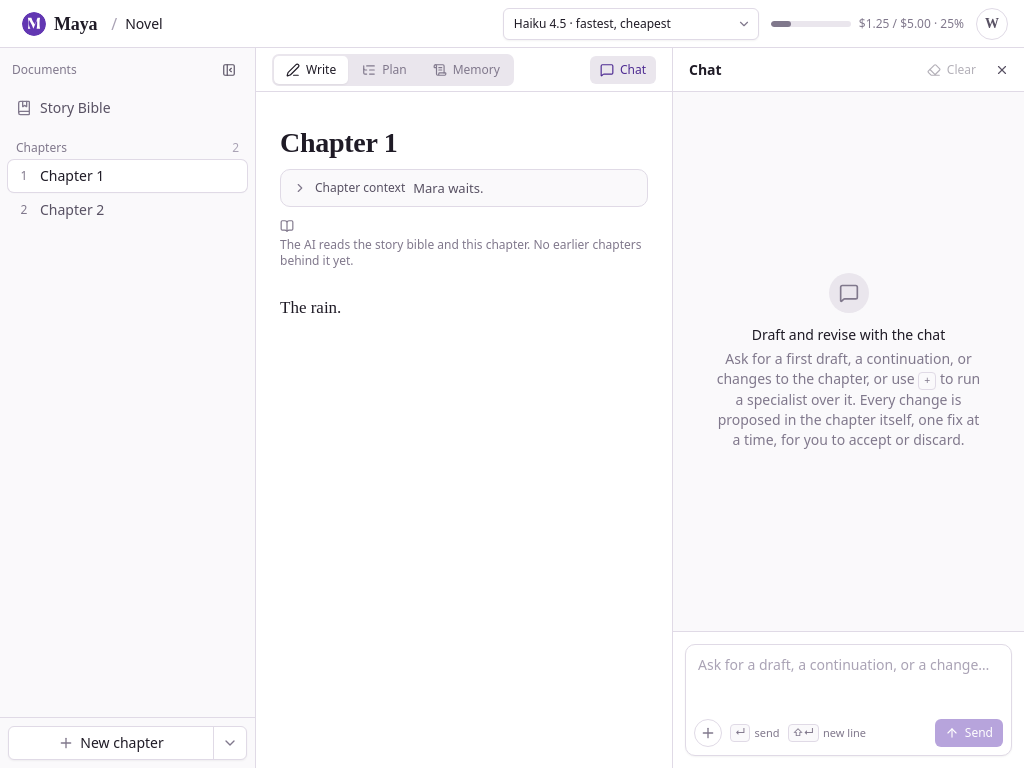
Test: WorkspaceScreen › brings the editor forward when a chat proposal arrives while the plan is open
This screenshot has width=1024, height=768.
Expected: the field named "Document body" is shown, [280, 298, 341, 317]
Click the tab "Plan" at point(384, 70), box [350, 56, 419, 84]
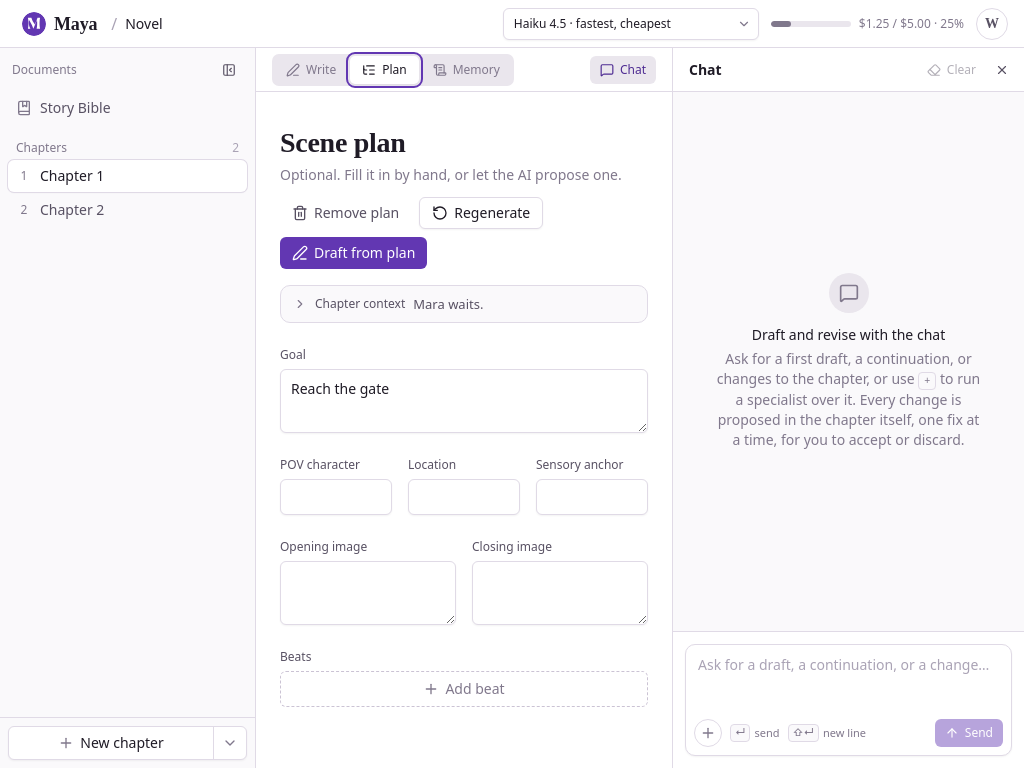
Expected: the text box showing "Reach the gate" is shown, [280, 369, 648, 433]
Type "Draft it." into the text box named "Message" at point(848, 680), box [686, 645, 1011, 715]
Then press Enter
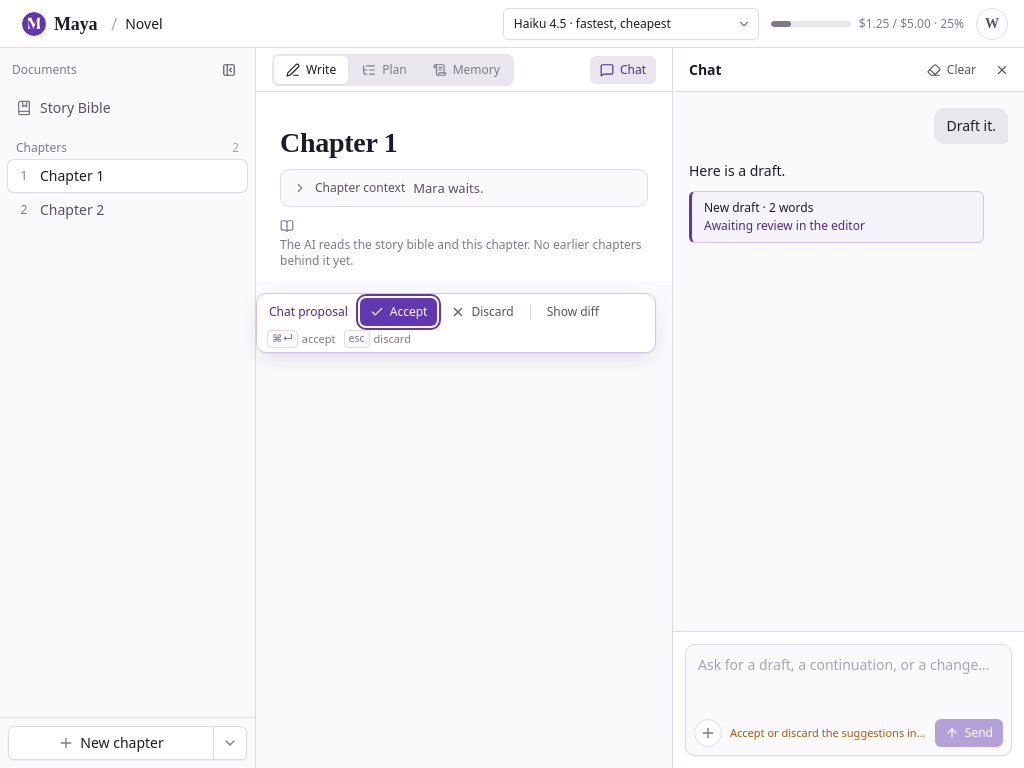
Expected: the element named "review proposal" is shown, [256, 293, 656, 353]
